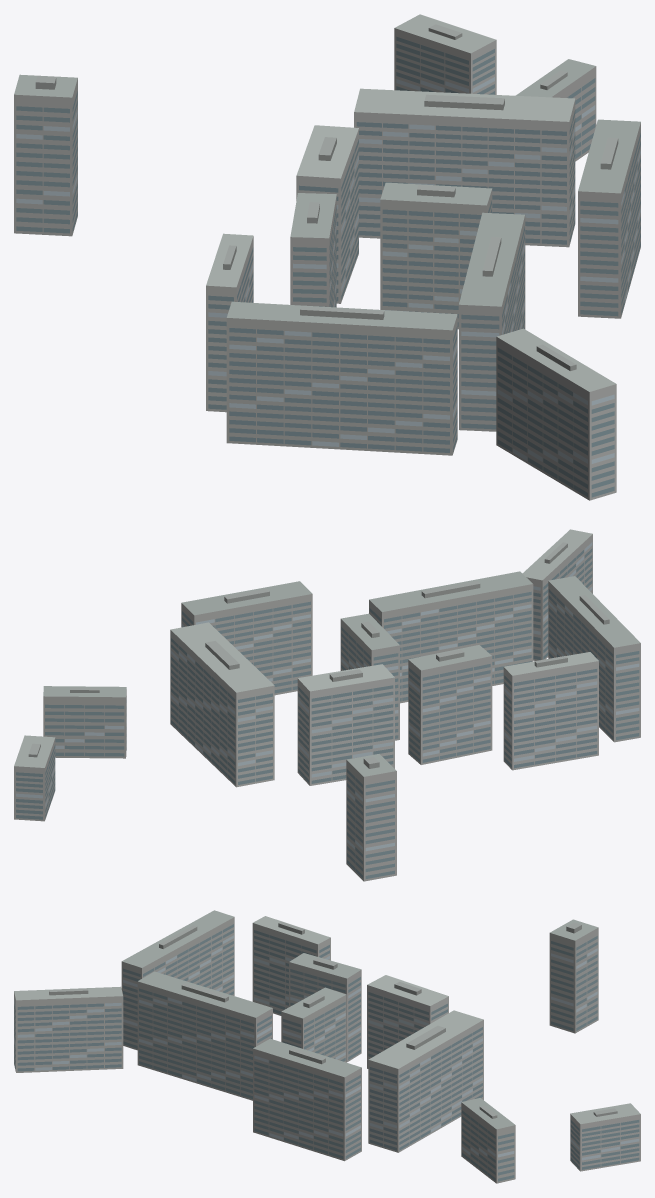
The model's file is apt-a13305007.glb.
The picture shows the model from 3 angles, top to bottom: view 1: azimuth 30°, elevation 25°; view 2: azimuth 150°, elevation 25°; view 3: azimuth 270°, elevation 25°; orthographic projection. The views are drawn at different scales.
Parts seen in each view (by area): view 1: apt-a13305007; view 2: apt-a13305007; view 3: apt-a13305007.
Boxes of the visible parts, bbox=[...] form: apt-a13305007: bbox=[14, 14, 640, 500]; apt-a13305007: bbox=[14, 529, 640, 881]; apt-a13305007: bbox=[14, 910, 640, 1183].
Bounding box in the file's own units: 222 × 53 × 310.
